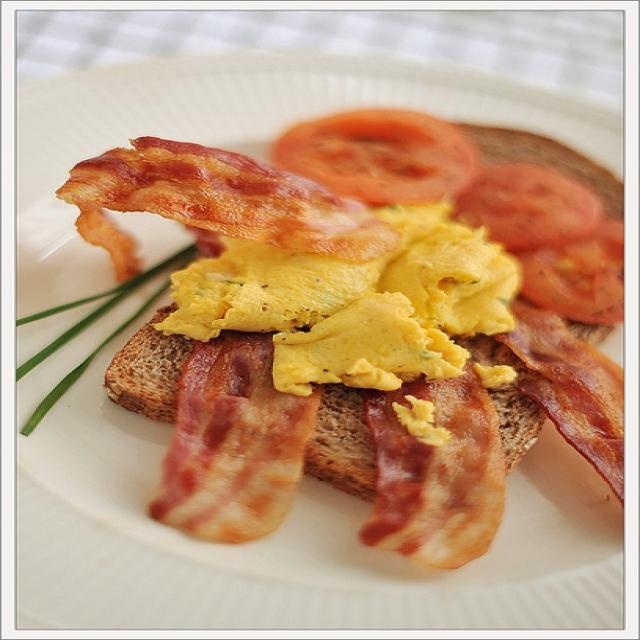鸡蛋料理: (114, 93, 582, 503)
